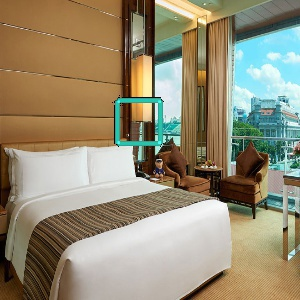square: (111, 94, 166, 148)
